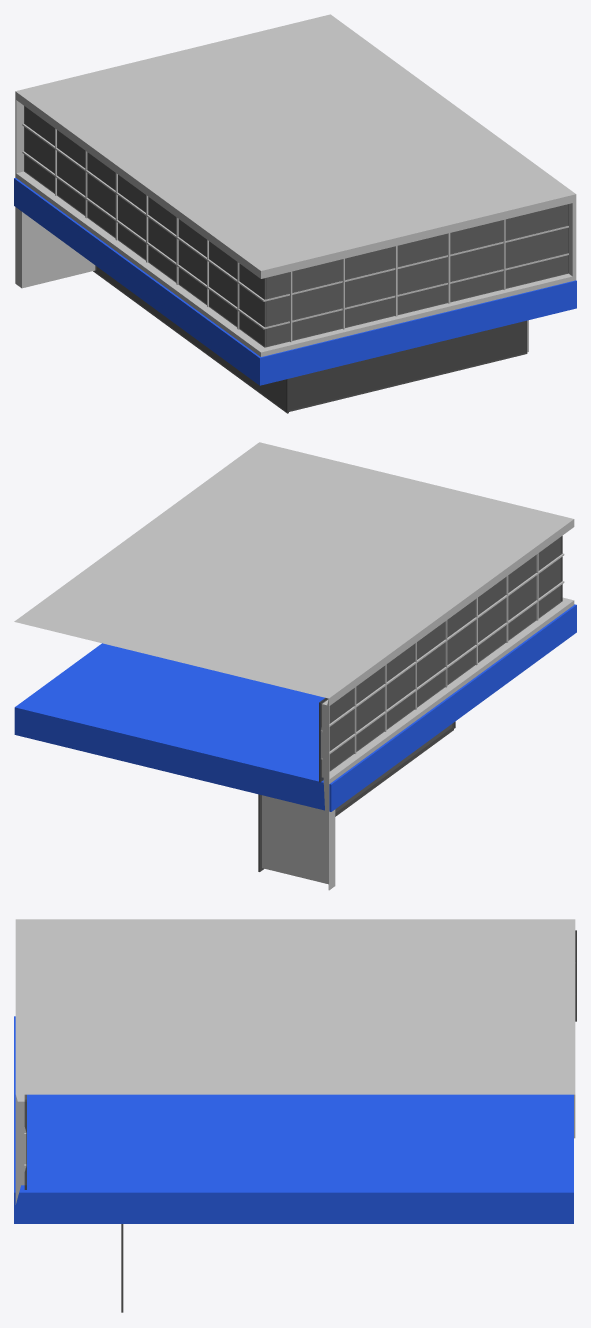
Rendered from edificio 1.fbx.
3 views of the same model, one above another, from view 1: azimuth 30°, elevation 25°; view 2: azimuth 150°, elevation 25°; view 3: azimuth 270°, elevation 25° (orthographic). The views are drawn at different scales.
Visible parts, largest first — view 1: BASE, Ventanas y Puertas, CARTEL; view 2: BASE, CARTEL, Ventanas y Puertas; view 3: BASE, CARTEL, Ventanas y Puertas.
Boxes of the visible parts, bbox=[...] form: BASE: bbox=[15, 14, 576, 409]; Ventanas y Puertas: bbox=[24, 106, 568, 413]; CARTEL: bbox=[14, 178, 576, 385]; BASE: bbox=[14, 442, 574, 890]; CARTEL: bbox=[14, 604, 576, 811]; Ventanas y Puertas: bbox=[258, 536, 562, 871]; BASE: bbox=[15, 919, 575, 1204]; CARTEL: bbox=[14, 1016, 573, 1223]; Ventanas y Puertas: bbox=[24, 930, 576, 1312].
Bounding box in the file's own units: 1214 × 707 × 1626.
